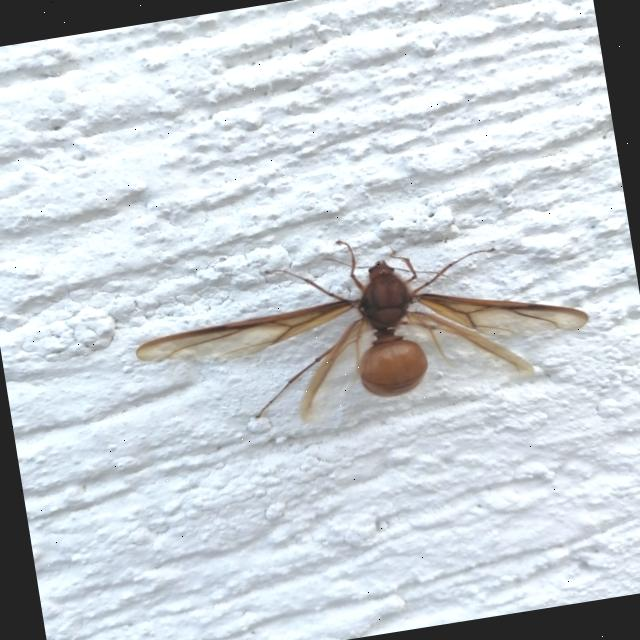Alive-Male-Alate: (123, 204, 598, 451)
